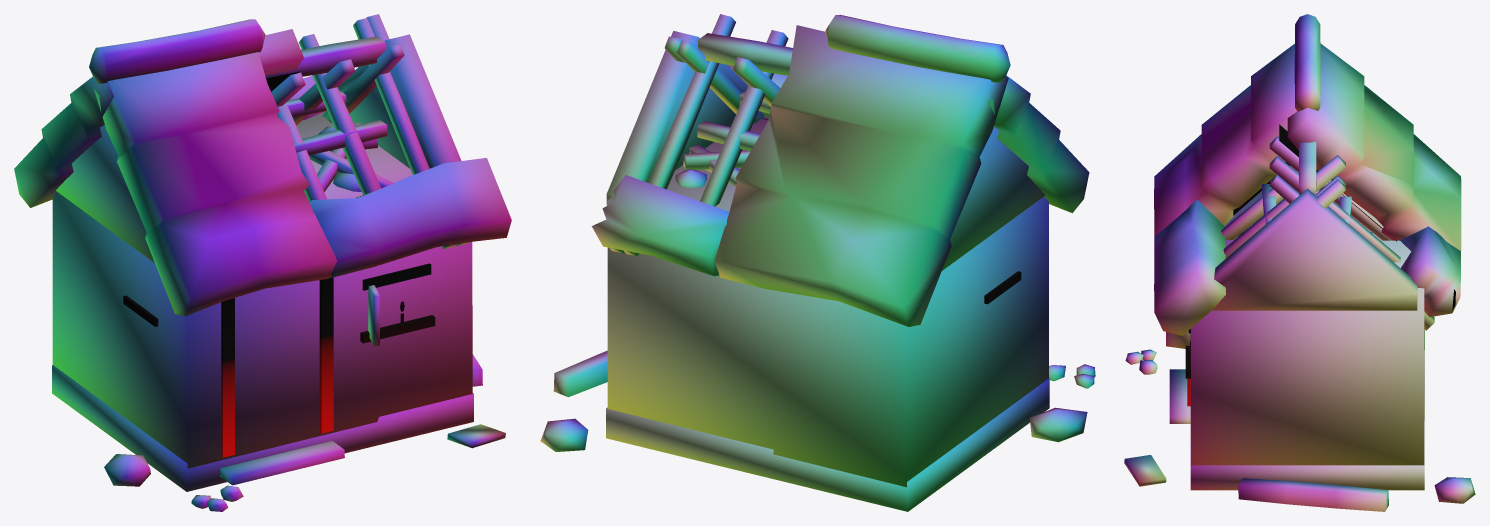
Rendered from SM_Prop_March_AshwheatCottage_B_LOD1.fbx.
The picture shows the model from 3 angles, left to right: view 1: azimuth 30°, elevation 25°; view 2: azimuth 150°, elevation 25°; view 3: azimuth 270°, elevation 25°; orthographic projection. The views are drawn at different scales.
Visible parts, largest first — view 1: SM_Prop_March_AshwheatCottage_B_LOD1; view 2: SM_Prop_March_AshwheatCottage_B_LOD1; view 3: SM_Prop_March_AshwheatCottage_B_LOD1.
Part boxes in pixels (x1,y1,x2,y2): SM_Prop_March_AshwheatCottage_B_LOD1: (14, 14, 511, 511); SM_Prop_March_AshwheatCottage_B_LOD1: (540, 14, 1095, 511); SM_Prop_March_AshwheatCottage_B_LOD1: (1124, 14, 1475, 511).
Bounding box in the file's own units: 3.45 × 3.18 × 2.92.
